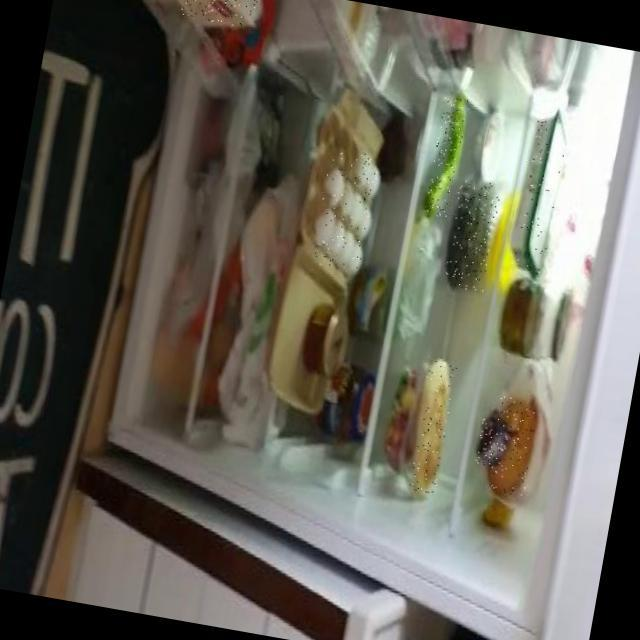Huevos: (309, 147, 379, 272)
